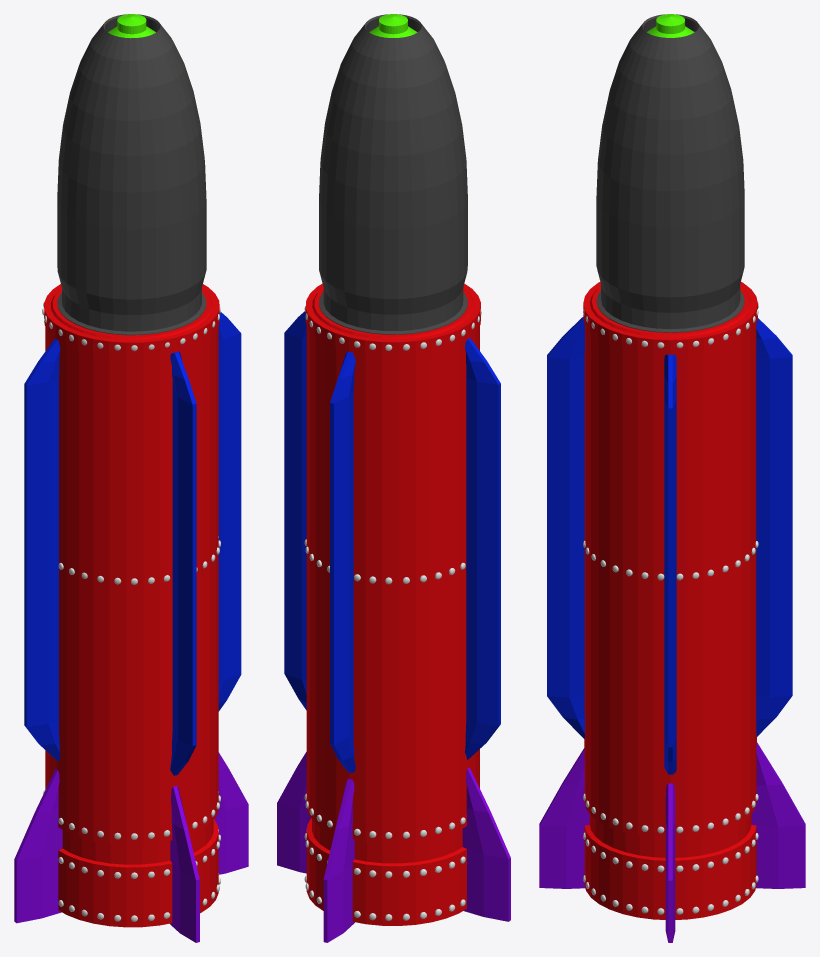
The model's file is uploads_files_2493487_Missile.fbx.
The picture shows the model from 3 angles, left to right: view 1: azimuth 30°, elevation 25°; view 2: azimuth 150°, elevation 25°; view 3: azimuth 270°, elevation 25°; orthographic projection.
Parts seen in each view (by area): view 1: bolt.004; view 2: bolt.004; view 3: bolt.004.
Part boxes in pixels (x1,y1,x2,y2): bolt.004: [14, 14, 248, 942]; bolt.004: [277, 14, 510, 942]; bolt.004: [539, 14, 805, 942].
Size of the model in its own units: 92.41 by 334 by 92.64.
